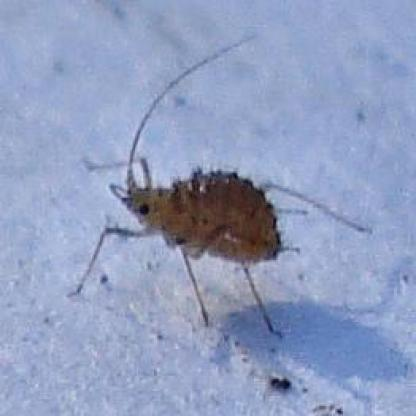aphid: (66, 45, 361, 360)
